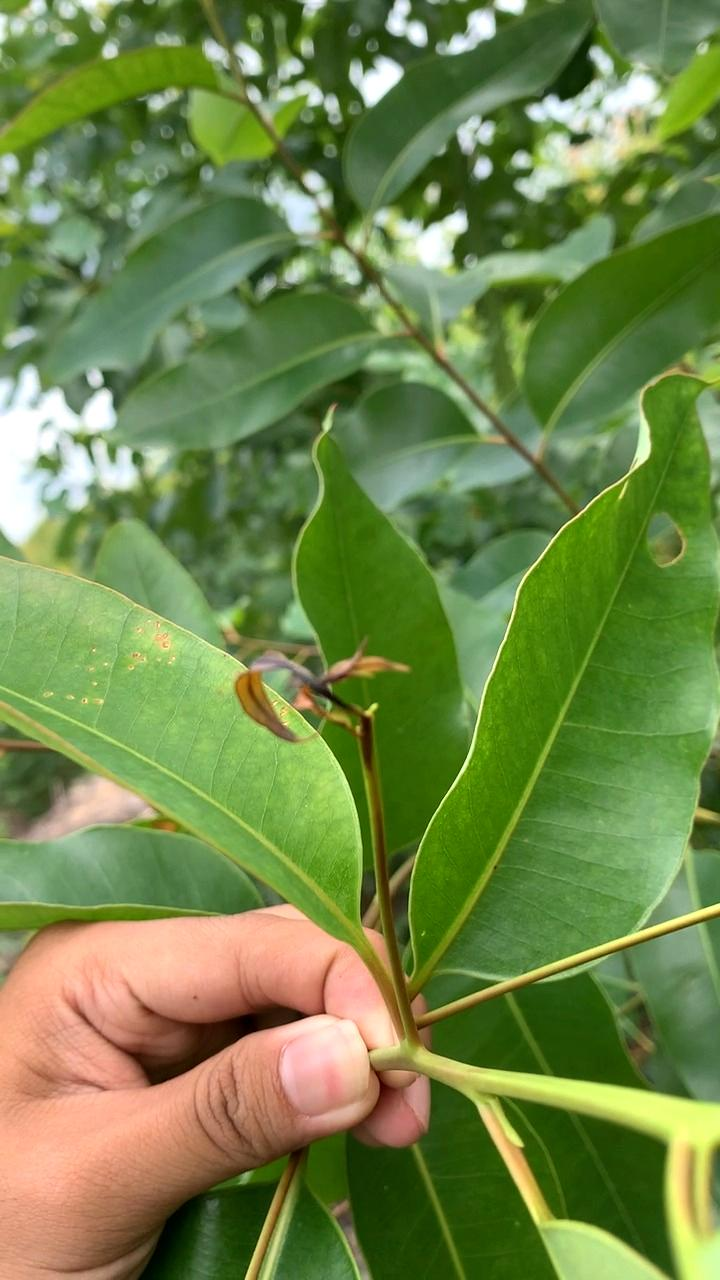Helopeltis-Withered Sprout: (233, 616, 409, 749)
